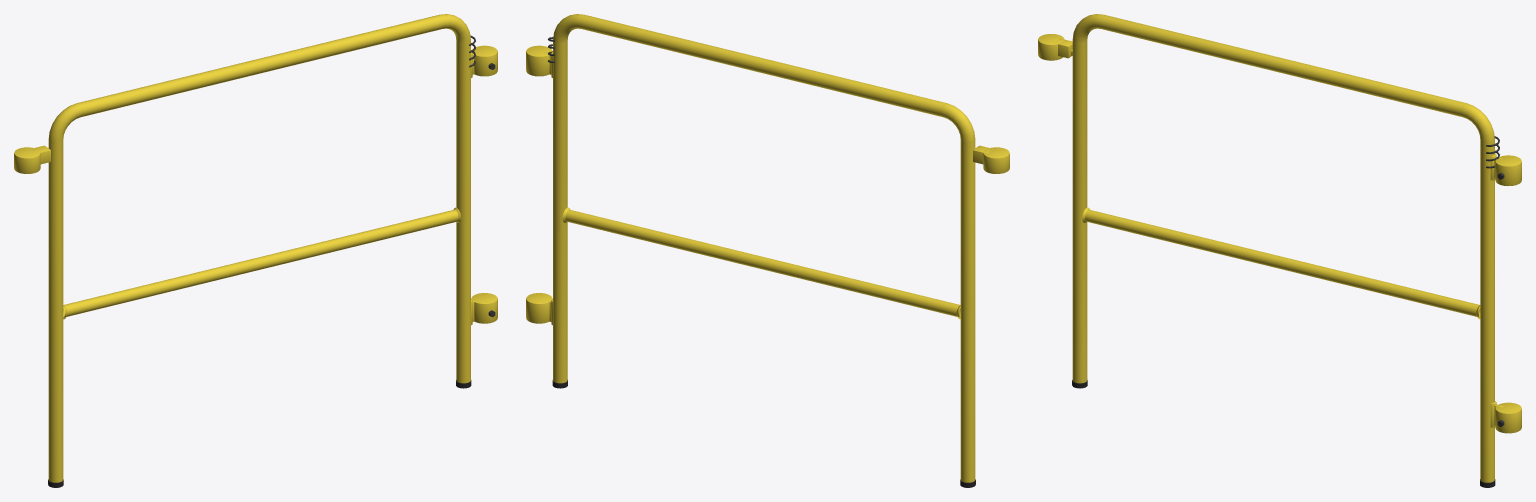
Rendered from Kit_DockEdgeGuard_Gate.fbx.
3 renders of one model, left to right at view 1: azimuth 30°, elevation 25°; view 2: azimuth 150°, elevation 25°; view 3: azimuth 330°, elevation 25°, orthographic.
Visible parts, largest first — view 1: Kit_DockEdgeGuard_Gate_LOD0; view 2: Kit_DockEdgeGuard_Gate_LOD0; view 3: Kit_DockEdgeGuard_Gate_LOD0.
Part boxes in pixels (bbox=[...]): Kit_DockEdgeGuard_Gate_LOD0: bbox=[14, 14, 497, 487]; Kit_DockEdgeGuard_Gate_LOD0: bbox=[526, 14, 1009, 487]; Kit_DockEdgeGuard_Gate_LOD0: bbox=[1038, 14, 1521, 487].
Size of what is drawn, in the model's own units: 1.26 by 0.9417 by 0.0682.
